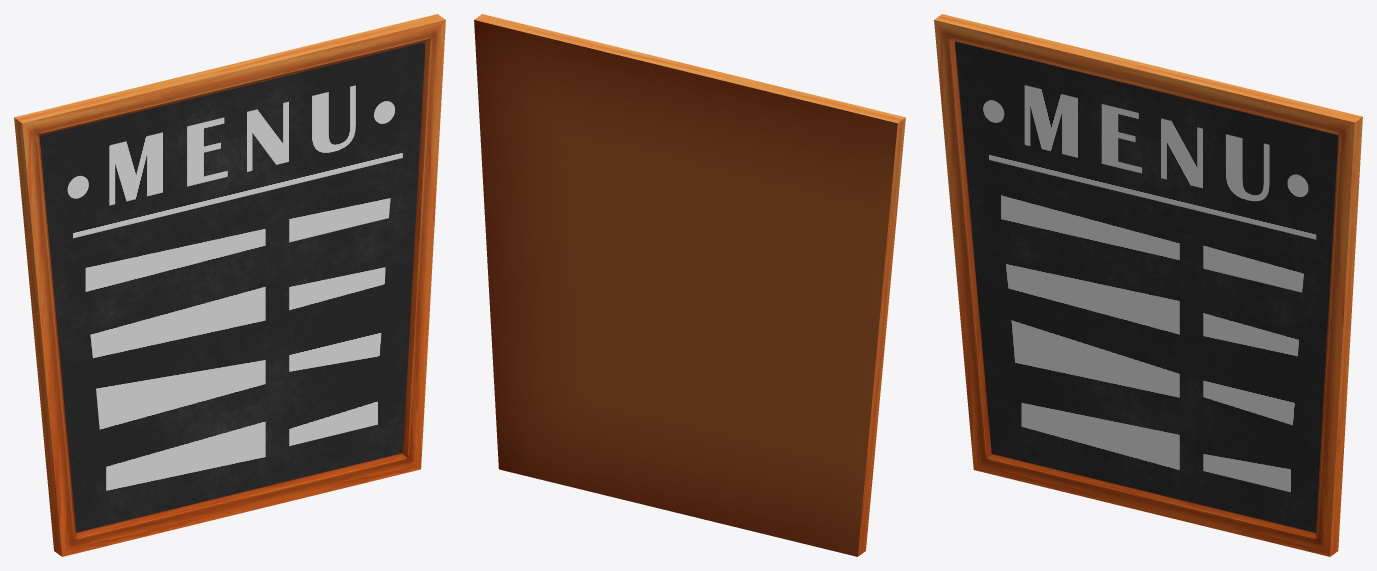
The model's file is CafeMenu01.FBX.
The picture shows the model from 3 angles, left to right: view 1: azimuth 30°, elevation 25°; view 2: azimuth 150°, elevation 25°; view 3: azimuth 330°, elevation 25°; orthographic projection.
Parts seen in each view (by area): view 1: CafeMenu01; view 2: CafeMenu01; view 3: CafeMenu01.
Part boxes in pixels (x1=…): CafeMenu01: x1=14, y1=14, x2=445, y2=556; CafeMenu01: x1=474, y1=14, x2=905, y2=556; CafeMenu01: x1=934, y1=14, x2=1362, y2=556.
Size of what is drawn, in the model's own units: 1.2 by 1.2 by 0.04.
